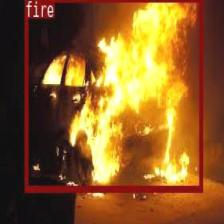fire: (24, 0, 202, 191)
